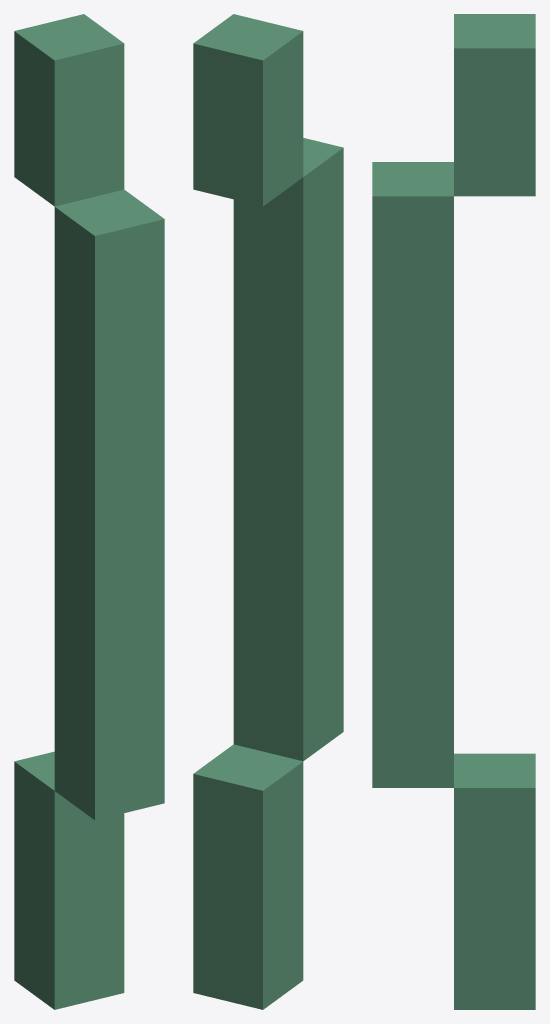
The model's file is flowerstem.fbx.
3 renders of one model, left to right at view 1: azimuth 30°, elevation 25°; view 2: azimuth 150°, elevation 25°; view 3: azimuth 270°, elevation 25°, orthographic.
Parts seen in each view (by area): view 1: fowerstem; view 2: fowerstem; view 3: fowerstem.
Part boxes in pixels (<box>): fowerstem: <box>14,14,164,1009</box>; fowerstem: <box>193,14,343,1009</box>; fowerstem: <box>372,14,535,1009</box>.
Size of the model in its own units: 1 by 13 by 2.
Materials: 1 (1 with a texture image).
